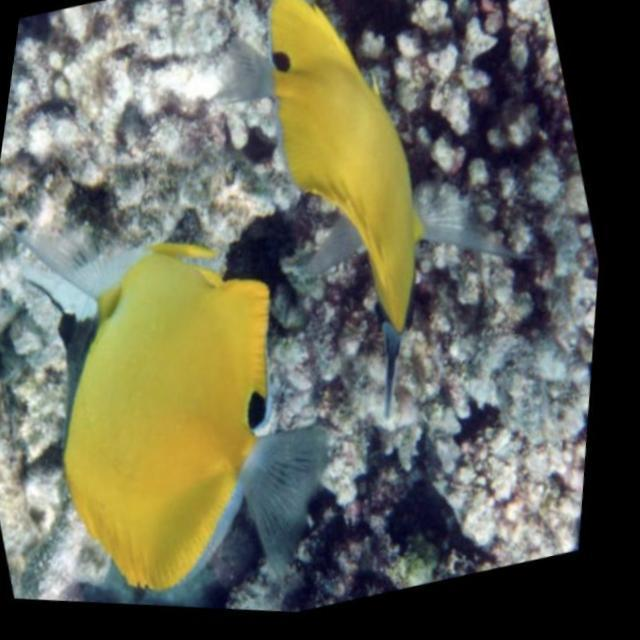Dead Coral: (0, 0, 317, 350), (313, 262, 622, 564)
